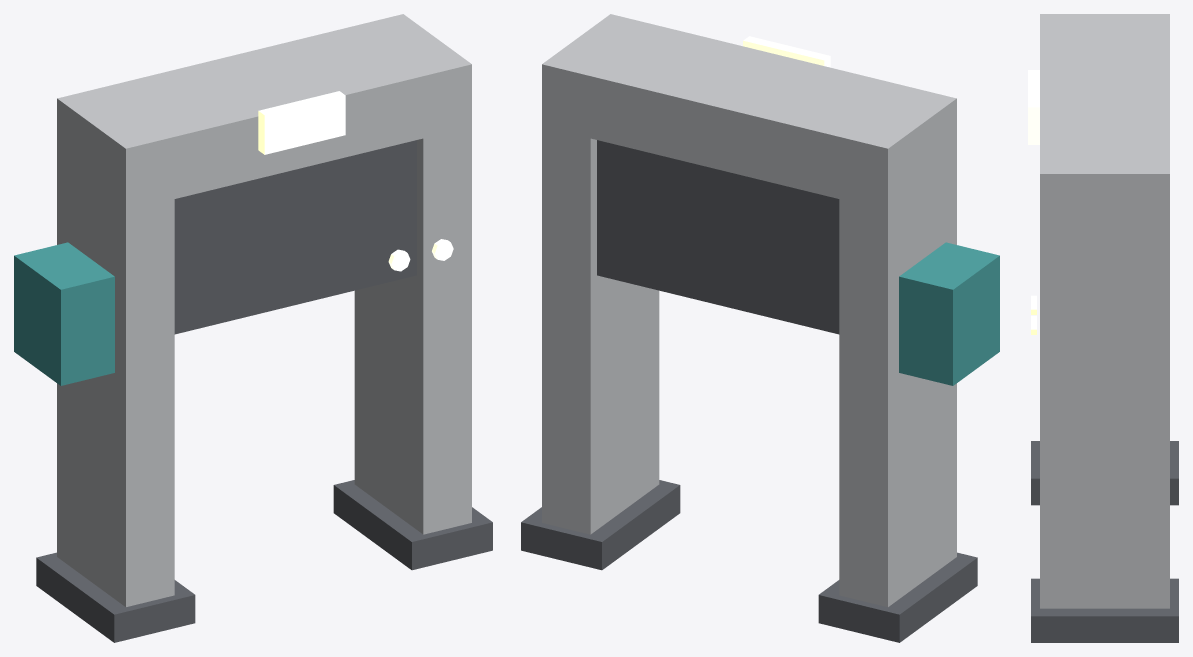
The model's file is chocolate-and-confectionery-factory-metal-detector-arc-b940fd1f__36788.glb.
3 views of the same model, side by side, from view 1: azimuth 30°, elevation 25°; view 2: azimuth 150°, elevation 25°; view 3: azimuth 270°, elevation 25° (orthographic). The views are drawn at different scales.
Parts seen in each view (by area): view 1: metal-detector-arch; view 2: metal-detector-arch; view 3: metal-detector-arch.
Part boxes in pixels (box(x1,y1,x2,y2)): metal-detector-arch: box(14, 14, 492, 642); metal-detector-arch: box(521, 14, 999, 642); metal-detector-arch: box(1028, 14, 1178, 642).
Size of the model in its own units: 1.54 by 1.74 by 0.51.
